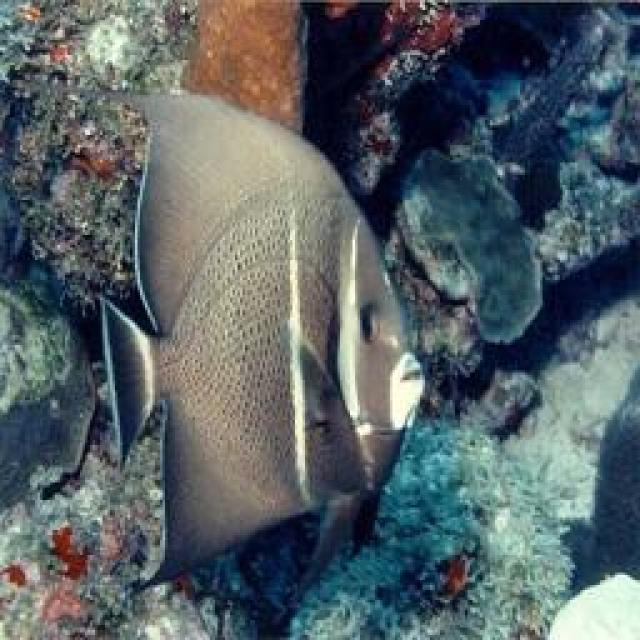fish: (98, 92, 428, 613)
reefs: (285, 410, 576, 638), (396, 149, 543, 345)
